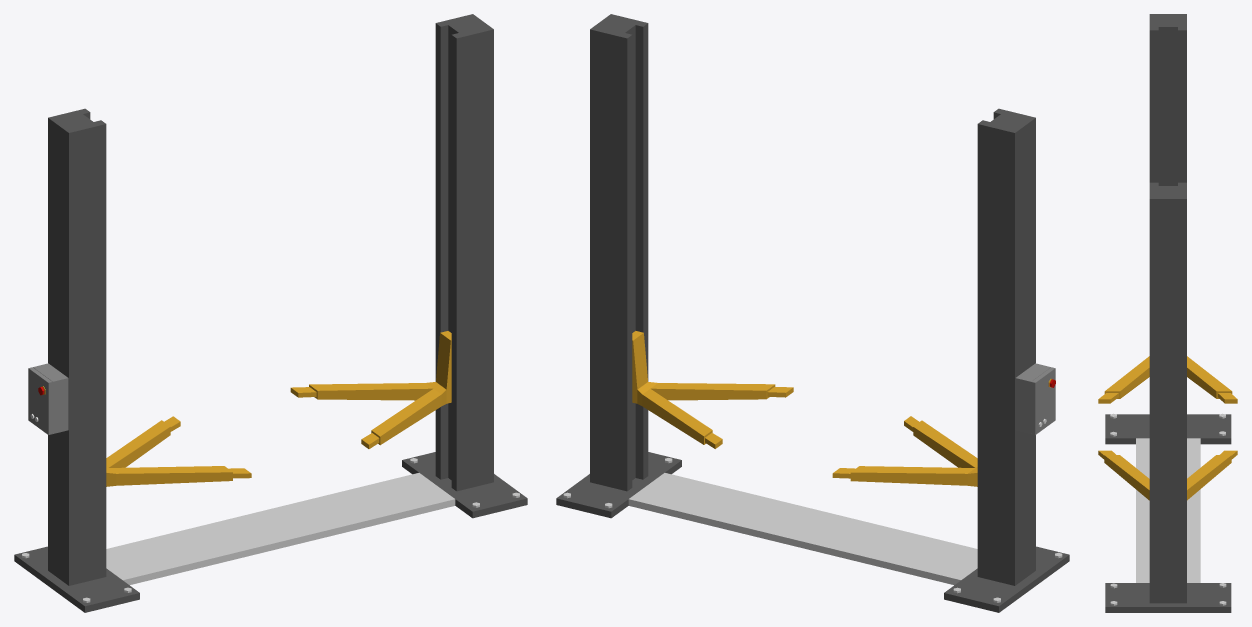
Rendered from Me_Machine_2.fbx.
3 renders of one model, left to right at view 1: azimuth 30°, elevation 25°; view 2: azimuth 150°, elevation 25°; view 3: azimuth 270°, elevation 25°, orthographic. The views are drawn at different scales.
Parts seen in each view (by area): view 1: Me_Machine_2; view 2: Me_Machine_2; view 3: Me_Machine_2.
Boxes of the visible parts, bbox=[...] form: Me_Machine_2: bbox=[14, 14, 527, 612]; Me_Machine_2: bbox=[556, 14, 1069, 612]; Me_Machine_2: bbox=[1098, 14, 1237, 612].
Size of the model in its own units: 2319 by 687 by 2229.
